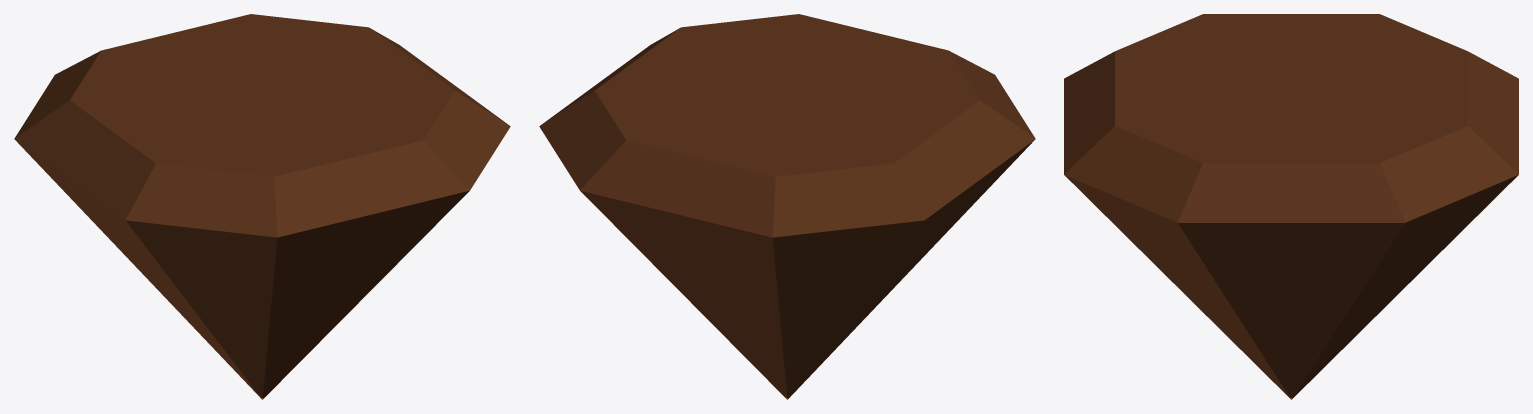
The model's file is vGem3_New.fbx.
3 renders of one model, left to right at view 1: azimuth 30°, elevation 25°; view 2: azimuth 150°, elevation 25°; view 3: azimuth 270°, elevation 25°, orthographic. The views are drawn at different scales.
Parts seen in each view (by area): view 1: pPlane7; view 2: pPlane7; view 3: pPlane7.
Boxes of the visible parts, left/top/right/bottom form: pPlane7: left=14, top=14, right=510, bottom=399; pPlane7: left=539, top=14, right=1035, bottom=399; pPlane7: left=1064, top=14, right=1518, bottom=399.
Size of the model in its own units: 0.6754 by 0.5101 by 0.6754.
